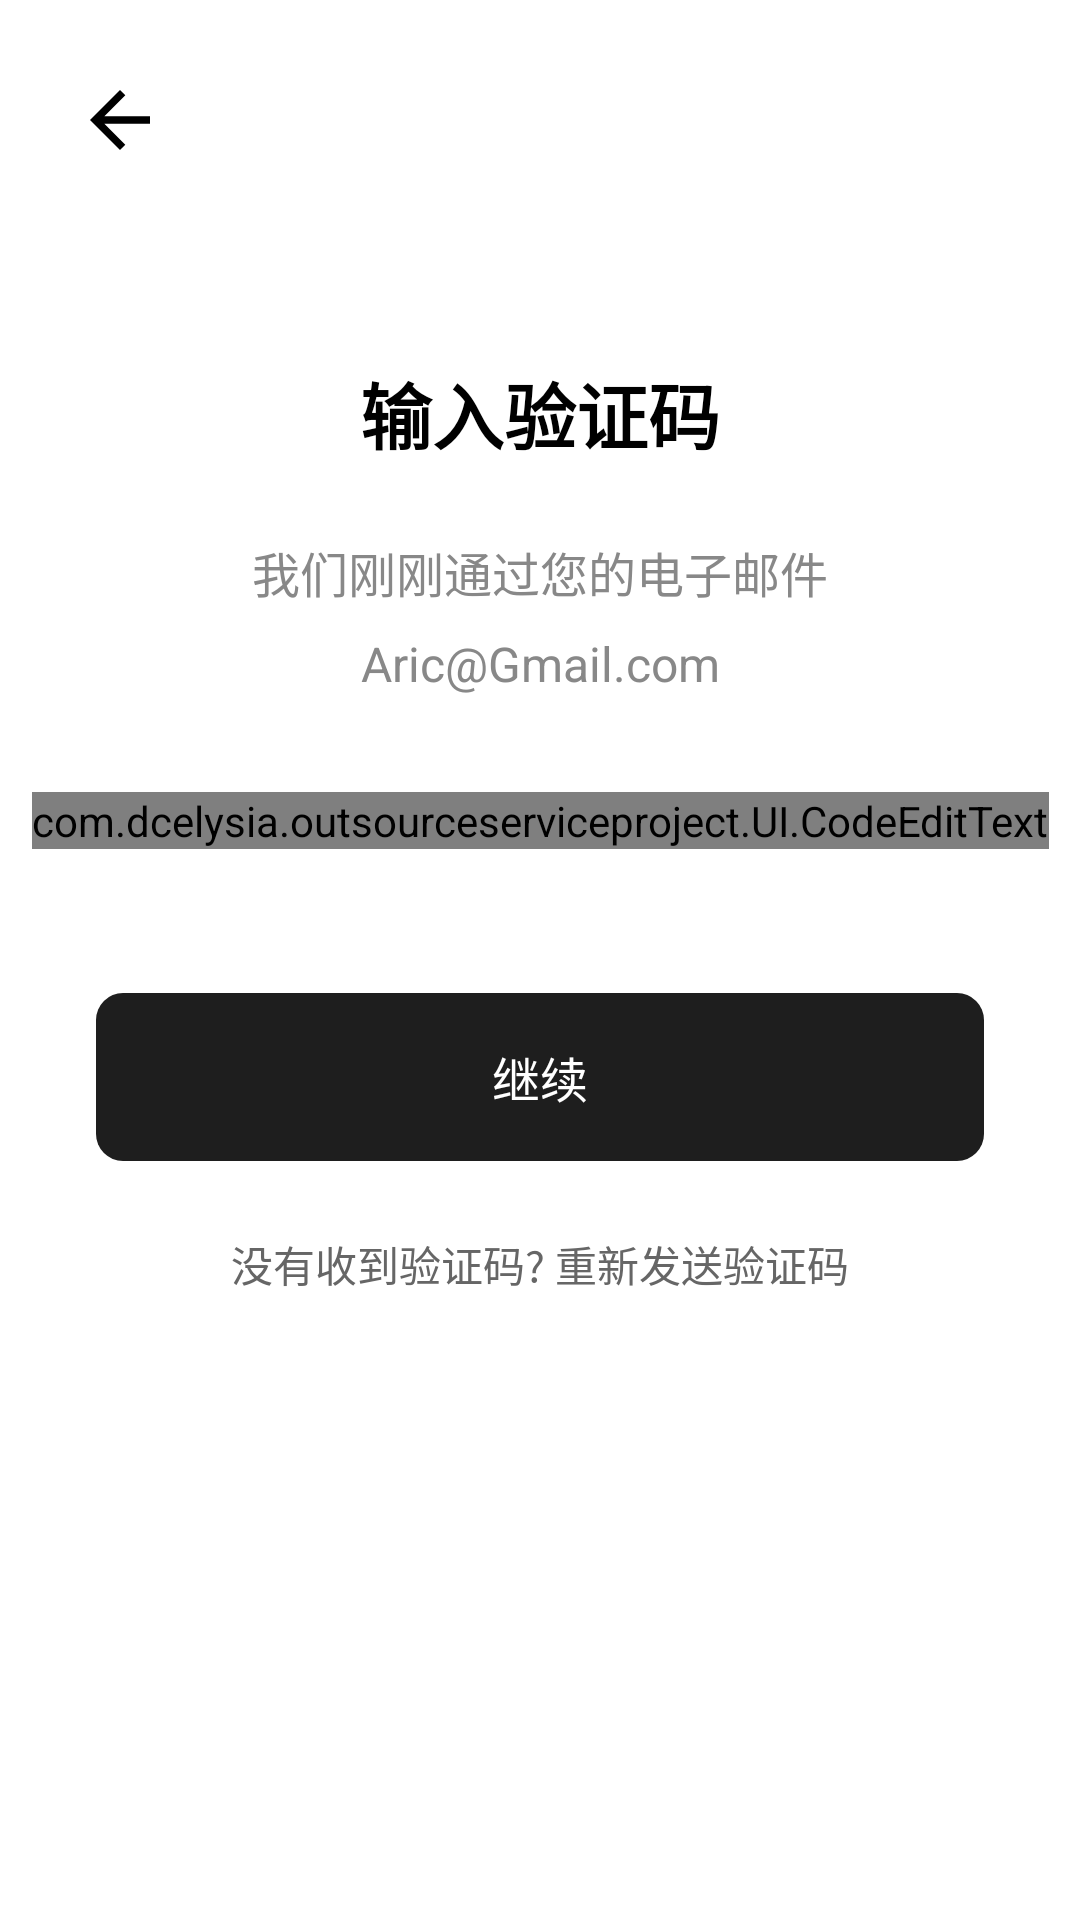

Screen size 1080 x 1920. Icon name, then its box in pixels as [x1=x1, y1=y1, x2=x2, y2=y2]:
Back: [x1=90, y1=90, x2=150, y2=150]
